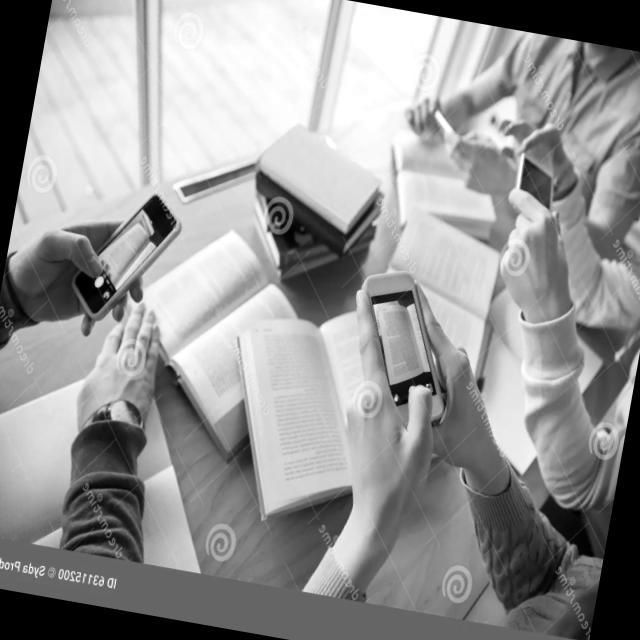phone: (341, 263, 468, 426), (65, 178, 187, 334), (512, 150, 562, 213), (429, 106, 464, 138)
